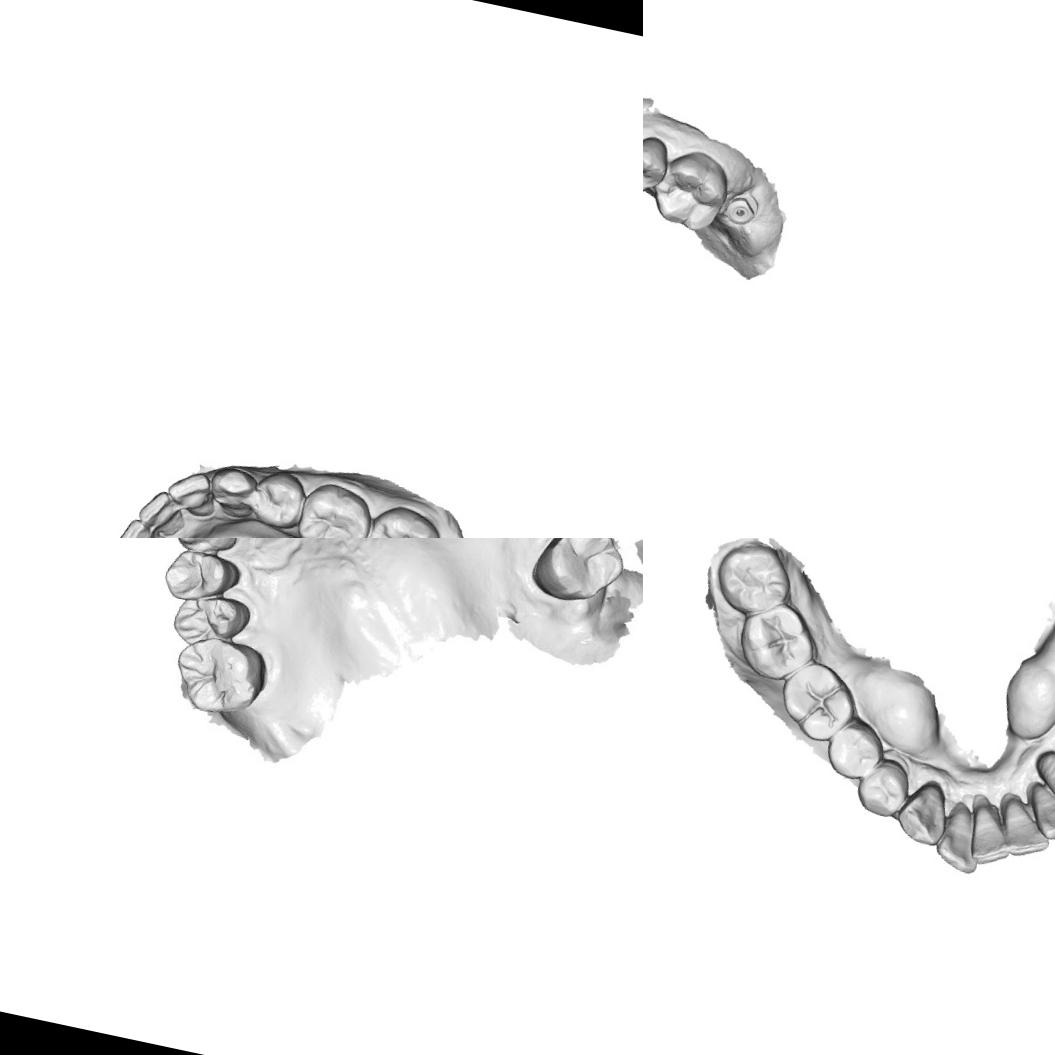canine: (891, 774, 954, 850), (202, 460, 264, 522), (1026, 742, 1055, 811), (168, 538, 246, 558)
implant: (721, 188, 762, 230)
incisor: (932, 802, 988, 878), (994, 795, 1055, 861), (963, 800, 1018, 868), (162, 470, 226, 524), (133, 485, 192, 538), (1020, 780, 1055, 848), (112, 514, 171, 538)
molar: (162, 624, 274, 726), (730, 594, 828, 690), (772, 654, 866, 748), (525, 538, 633, 618), (647, 143, 734, 236), (708, 538, 801, 624), (291, 476, 377, 538), (358, 499, 448, 538)
premolar: (166, 587, 252, 654), (819, 711, 892, 785), (245, 465, 313, 535), (850, 752, 916, 823), (162, 548, 240, 606), (643, 129, 673, 200)
